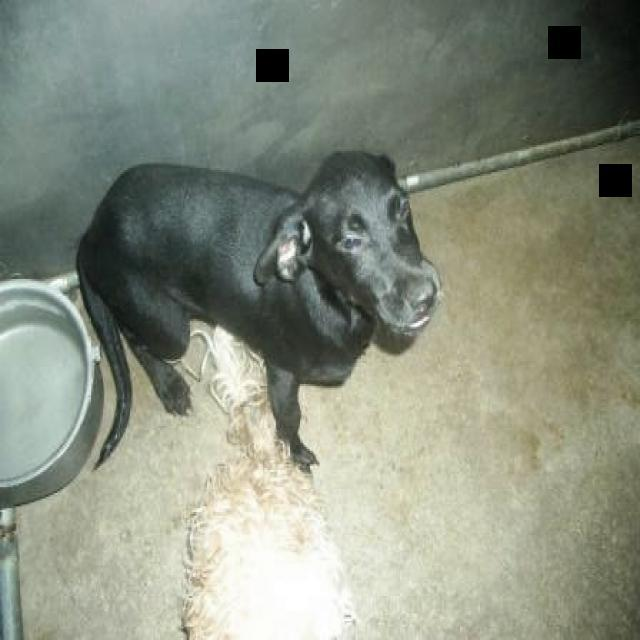adult_dog: (75, 148, 441, 476)
